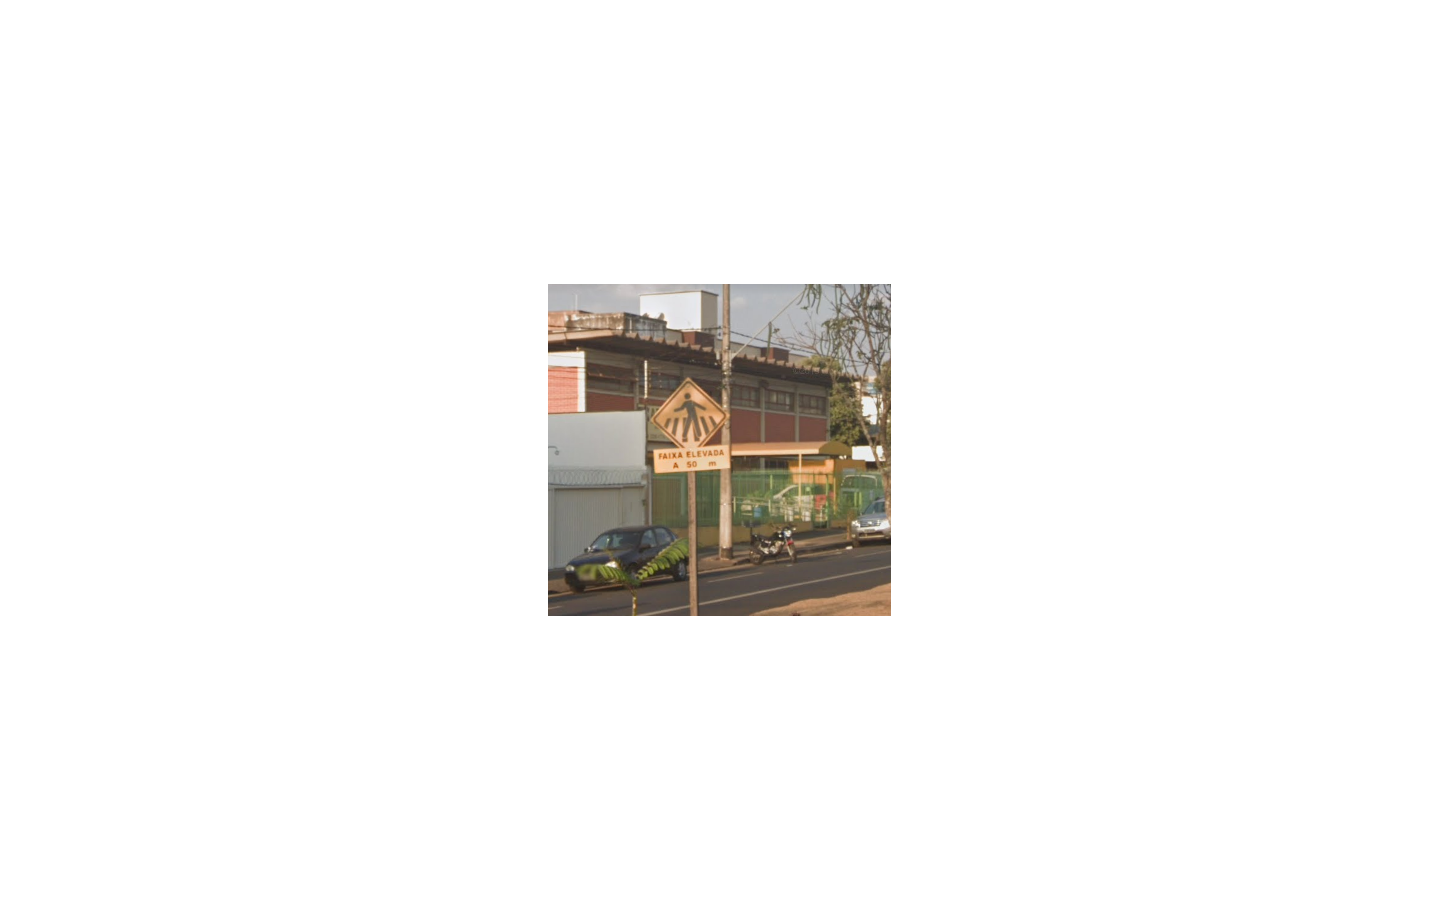t50m: (649, 378, 730, 473)
